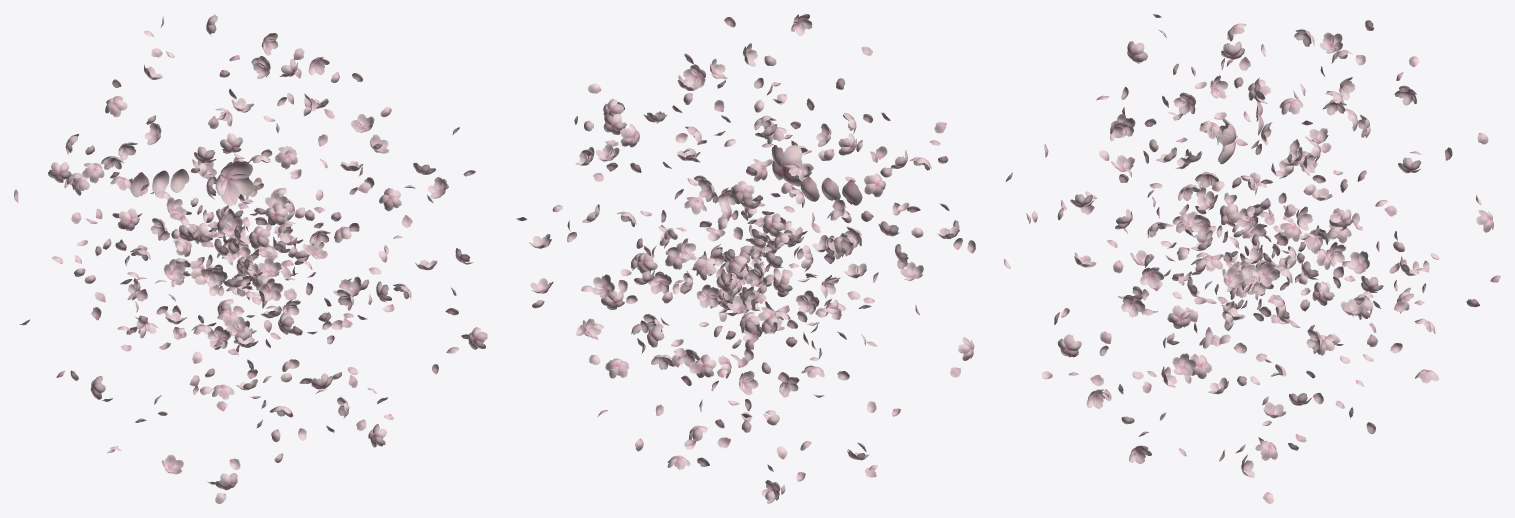
File: petal.fbx
The picture shows the model from 3 angles, left to right: view 1: azimuth 30°, elevation 25°; view 2: azimuth 150°, elevation 25°; view 3: azimuth 270°, elevation 25°; orthographic projection. The views are drawn at different scales.
Visible parts, largest first — view 1: 03; view 2: 03; view 3: 03.
Boxes of the visible parts, <box> form: 03: <box>215,161,253,206</box>; 03: <box>771,145,813,186</box>; 03: <box>1217,118,1236,164</box>.
Bounding box in the file's own units: 295 × 307 × 305.
Materials: 3 (3 with a texture image).
